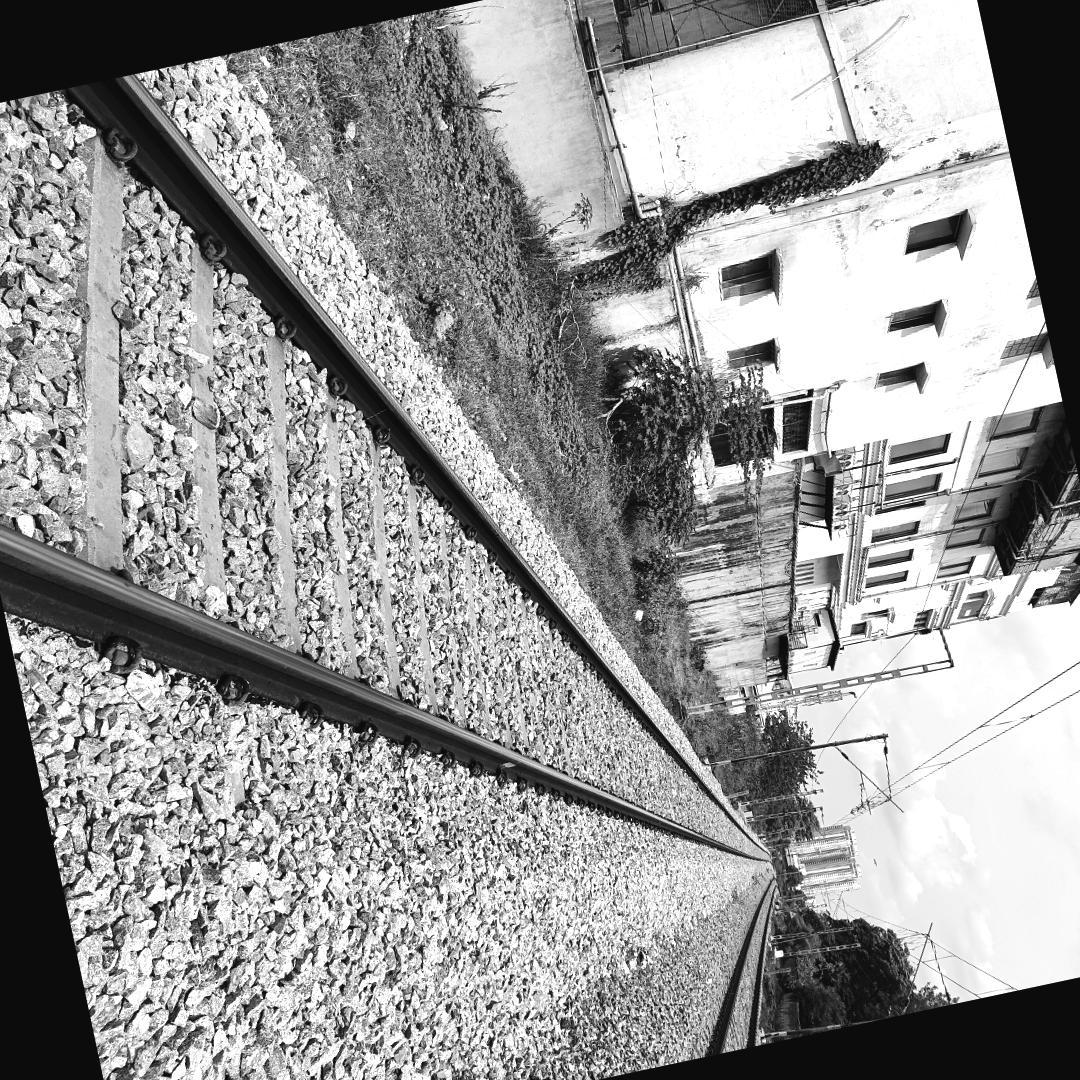track: (0, 65, 764, 872)
